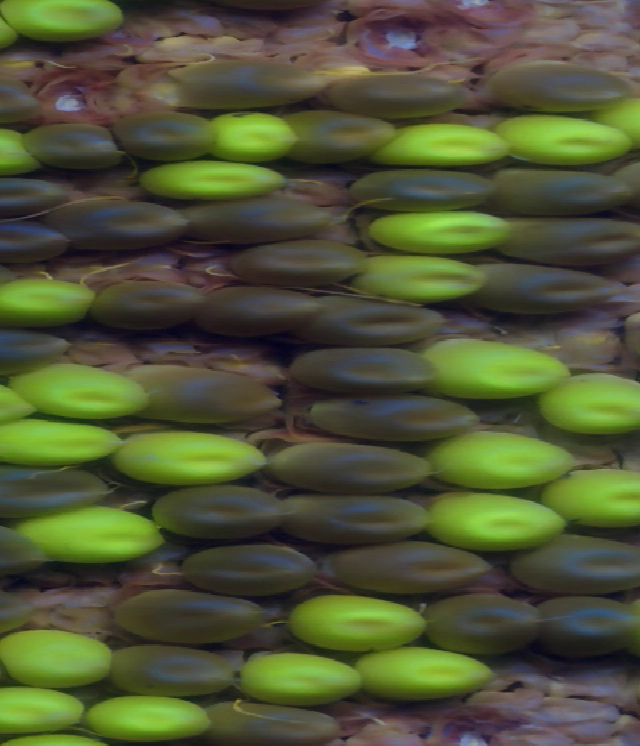fluorescent: (419, 335, 571, 408), (427, 485, 570, 555), (494, 110, 635, 175), (13, 510, 178, 563), (280, 593, 436, 646), (428, 434, 581, 487), (106, 435, 274, 482), (350, 648, 501, 700), (238, 652, 359, 715), (354, 249, 490, 305), (374, 208, 517, 261), (531, 368, 640, 437), (139, 155, 293, 203), (19, 367, 152, 420), (0, 630, 125, 686), (381, 120, 514, 170), (83, 697, 219, 743), (545, 468, 640, 531), (203, 112, 307, 160), (0, 1, 134, 38), (0, 424, 124, 462), (0, 279, 91, 323), (0, 689, 86, 734), (598, 93, 640, 152), (0, 376, 41, 430), (0, 123, 42, 173)
nonfluorescent: (304, 286, 449, 352), (123, 364, 287, 421), (307, 393, 487, 444), (282, 436, 432, 495), (121, 588, 269, 647), (191, 279, 323, 345), (488, 162, 640, 219), (512, 529, 640, 596), (468, 261, 624, 315), (332, 542, 497, 592), (298, 341, 448, 395), (162, 57, 332, 104), (282, 489, 433, 541), (102, 648, 250, 701), (493, 63, 637, 117), (351, 167, 500, 219), (423, 593, 542, 656), (90, 277, 211, 337), (276, 108, 401, 164), (535, 593, 640, 657), (180, 543, 317, 592), (326, 73, 475, 116), (40, 204, 206, 242), (154, 487, 294, 532), (495, 216, 640, 259), (184, 200, 333, 238), (199, 706, 340, 746), (235, 243, 375, 283), (0, 464, 106, 513), (112, 111, 218, 158), (27, 121, 125, 167), (0, 326, 79, 370), (0, 217, 75, 262), (0, 514, 48, 581), (0, 176, 62, 214), (0, 83, 43, 123), (0, 589, 40, 630)
